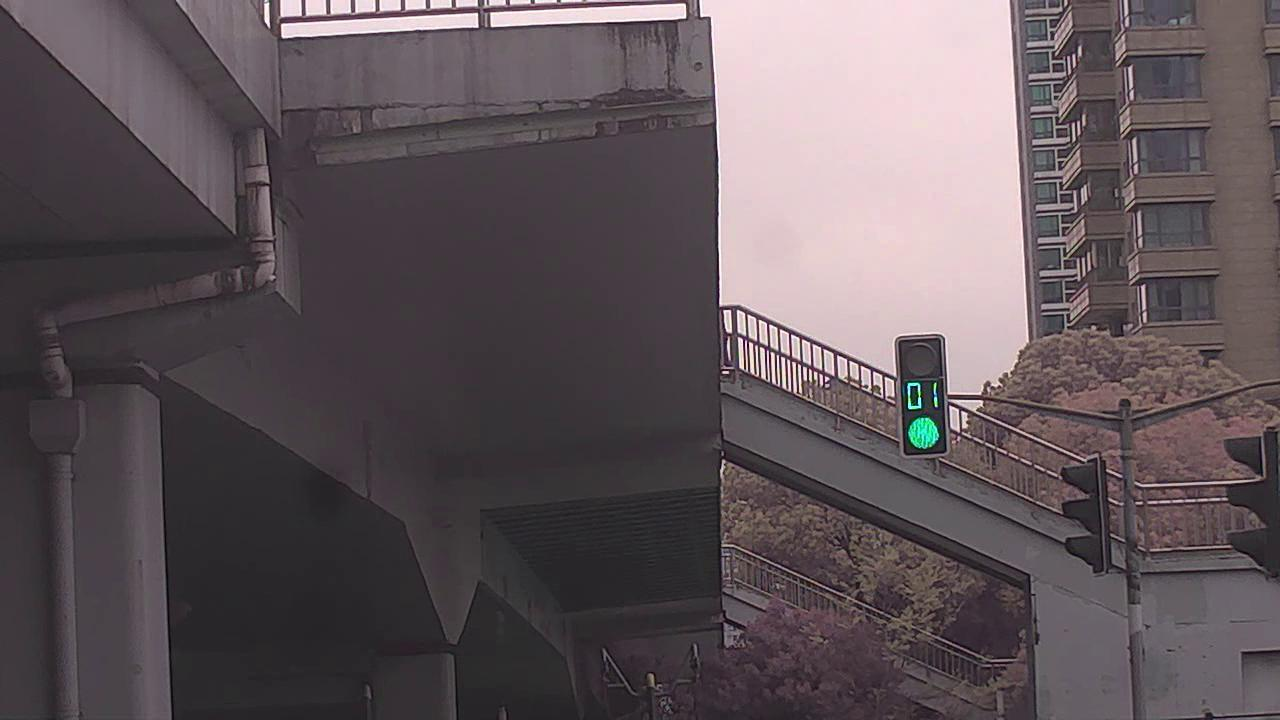traffic_light: (896, 333, 948, 454)
